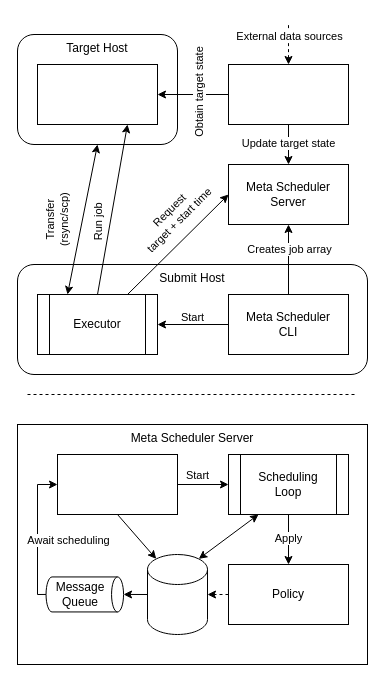
Some shapes in this 385 by 682 pixel diagram are drawn without their labels. The centre of each missing label's shape, as x and y in pixels:
DB: [177,594]
HTTP API: [117,484]
Local Batch System (e.g. Slurm): [97,94]
Meta Scheduler Probe: [288,94]
